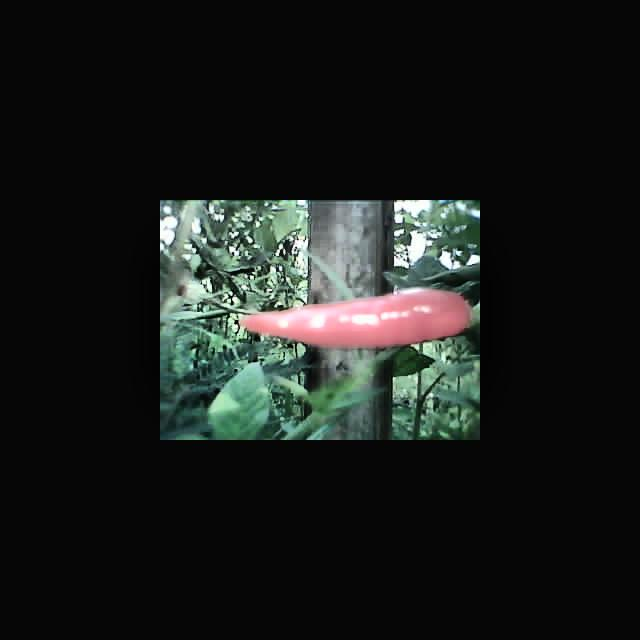Cabai: (248, 292, 480, 342)
